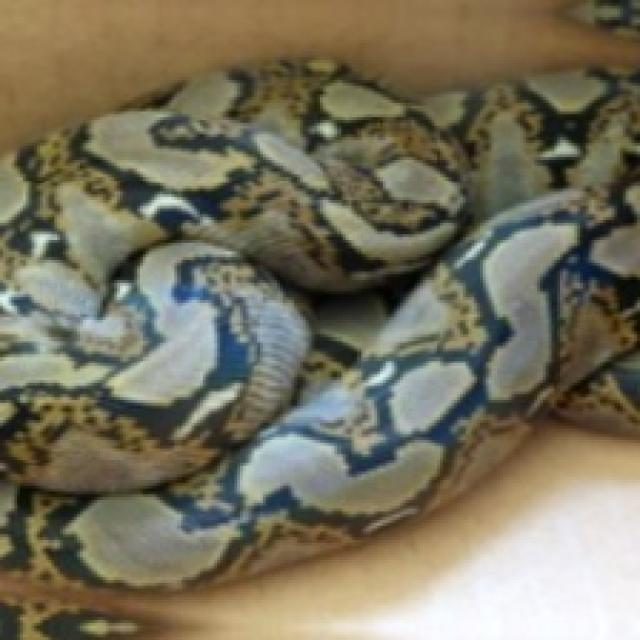reticulated python: (0, 60, 640, 639)
